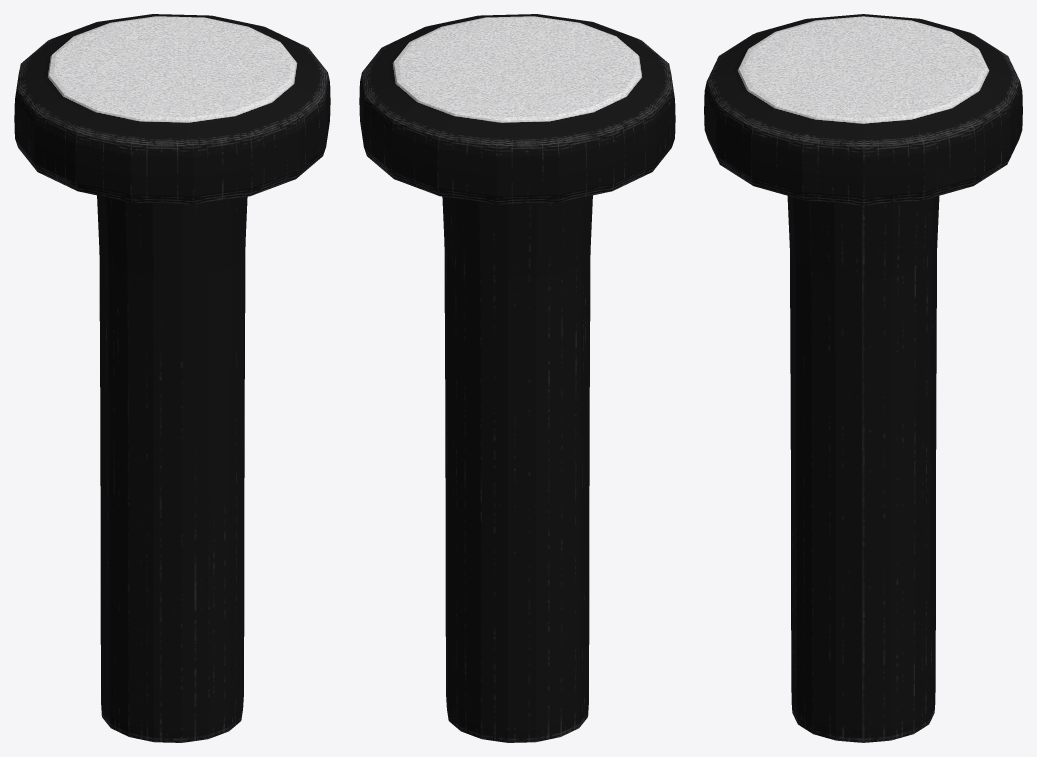
Rendered from NTX_02.glb.
3 views of the same model, side by side, from view 1: azimuth 30°, elevation 25°; view 2: azimuth 150°, elevation 25°; view 3: azimuth 270°, elevation 25° (orthographic).
Parts seen in each view (by area): view 1: NTX_02; view 2: NTX_02; view 3: NTX_02.
Part boxes in pixels (bbox=[...]): NTX_02: bbox=[14, 14, 330, 742]; NTX_02: bbox=[359, 14, 675, 742]; NTX_02: bbox=[704, 14, 1022, 742].
Bounding box in the file's own units: 0.1348 × 0.3018 × 0.1348.
1 material, 1 textured.
